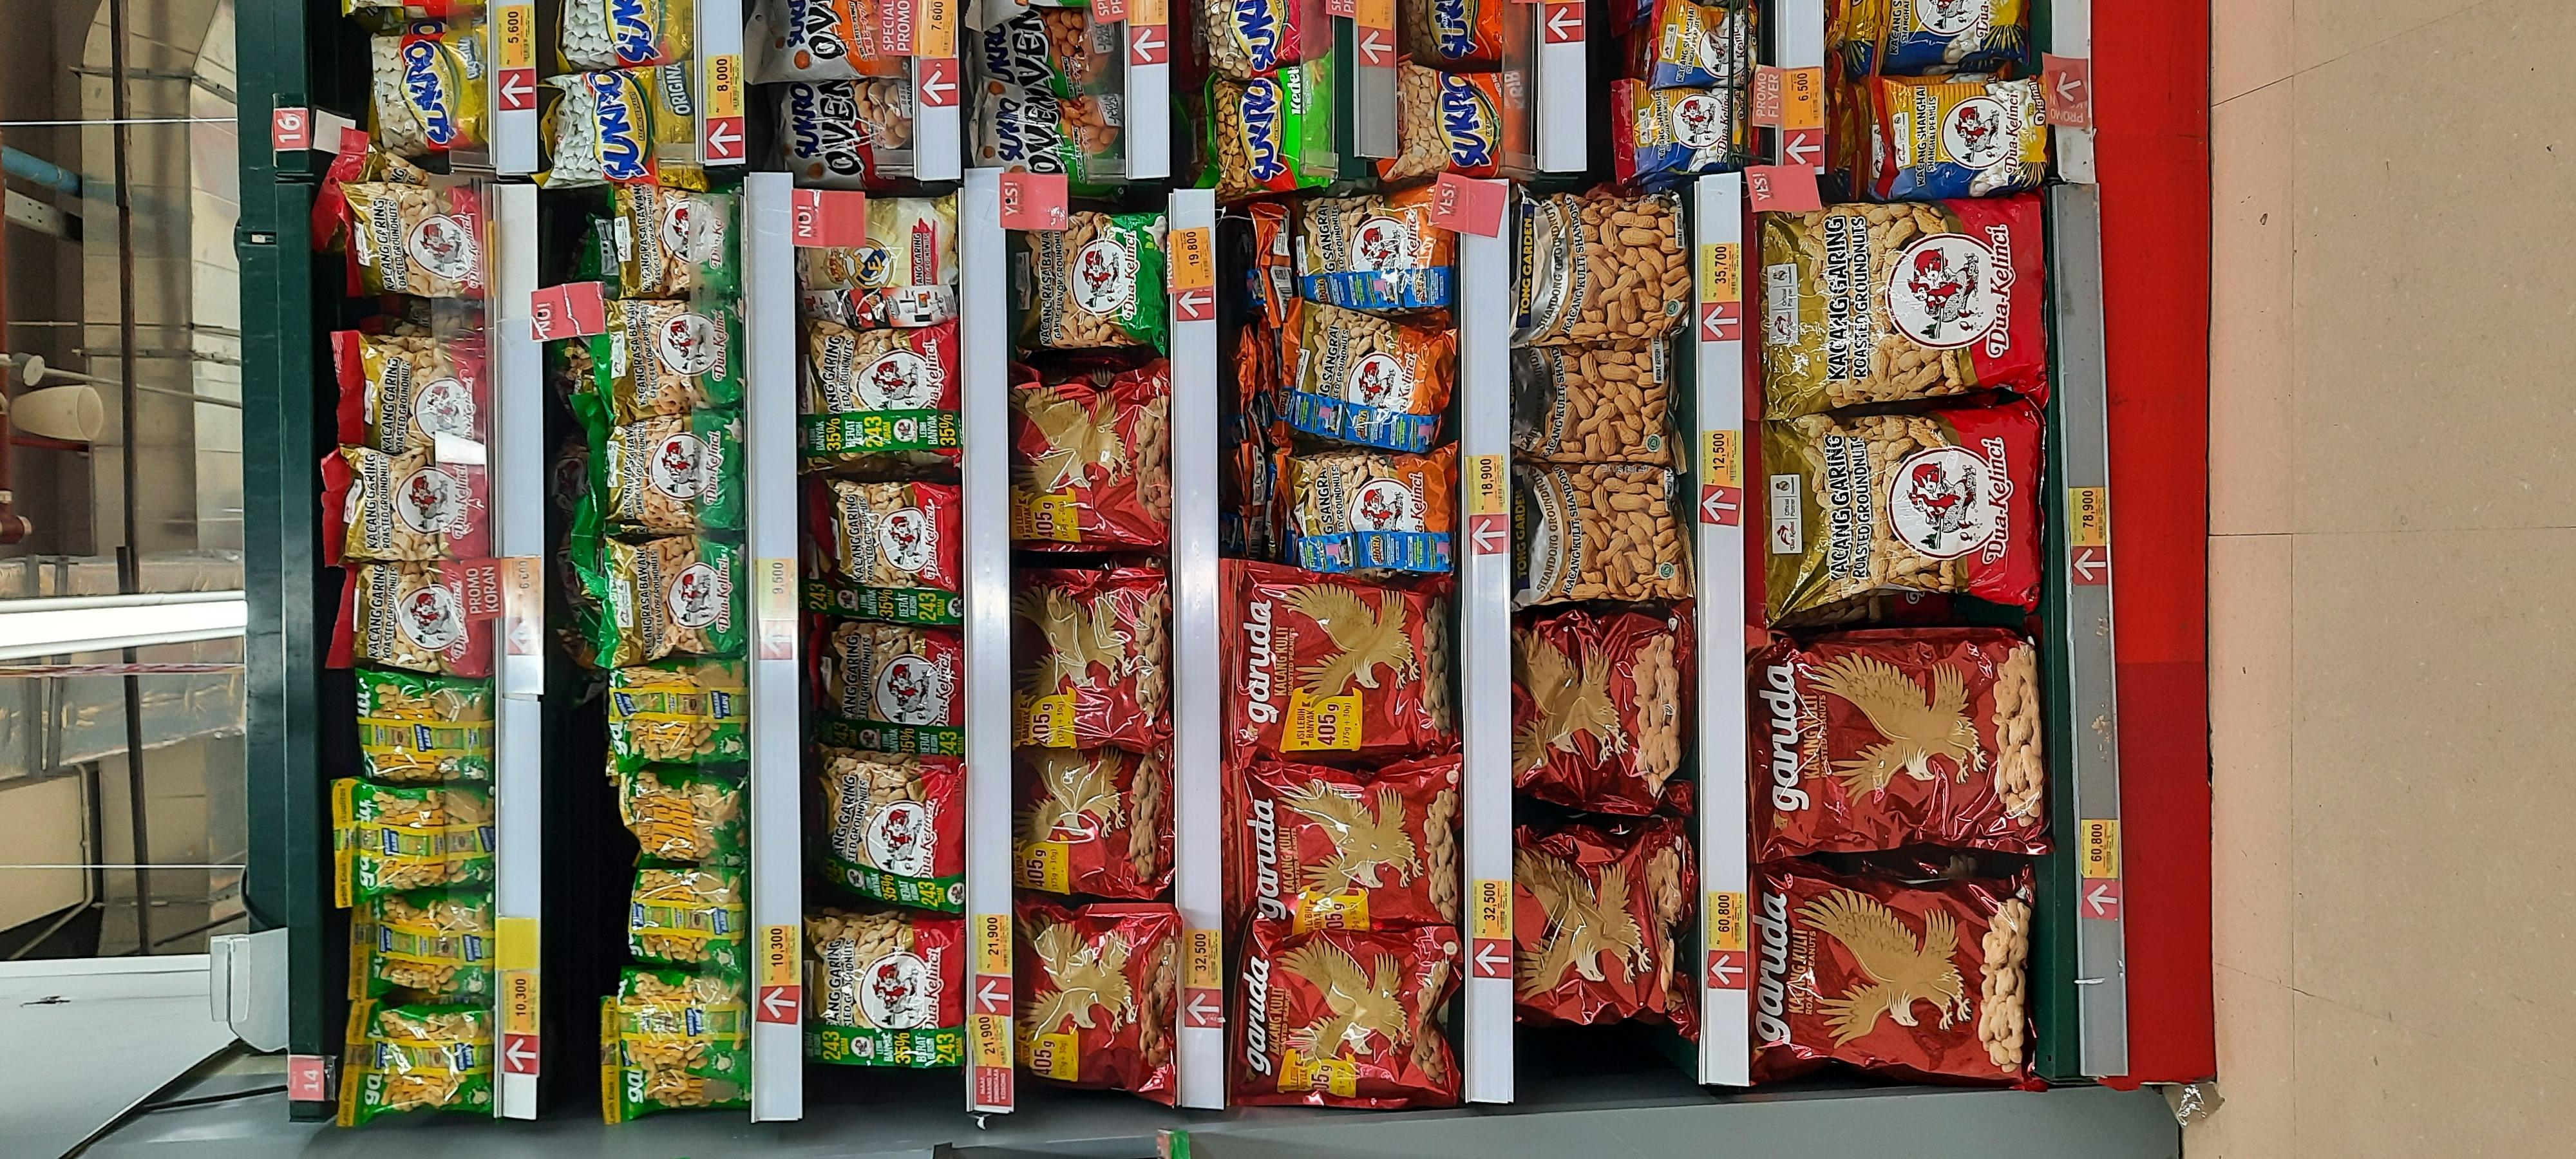90101112101100: (1745, 624, 2055, 854), (1750, 864, 2034, 1083), (1221, 560, 1460, 755), (1226, 921, 1464, 1108), (1217, 757, 1462, 931), (1014, 905, 1176, 1100), (1009, 363, 1170, 550), (337, 1003, 495, 1126), (337, 783, 495, 903), (352, 668, 496, 780), (608, 660, 749, 773), (348, 891, 495, 1000), (619, 967, 752, 1075), (629, 868, 749, 969), (621, 773, 749, 862)
DuaKelinciKacangGaring: (797, 315, 961, 468), (803, 914, 964, 1067), (798, 481, 964, 625), (818, 758, 966, 911), (812, 621, 966, 752)
DuaKelinciKacangGaring60g: (330, 332, 493, 456), (329, 448, 493, 565), (340, 182, 493, 299), (352, 561, 491, 670)
DuaKelinciKacangGaring750g: (1748, 399, 2045, 627), (1759, 192, 2045, 405)
DuaKelinciKacangRasaBawang: (1004, 212, 1168, 348), (605, 537, 746, 667), (600, 302, 746, 422), (605, 412, 743, 530), (613, 182, 741, 299)
DuaKelinciKacangSangrai: (1285, 300, 1457, 453), (1275, 448, 1456, 576), (1288, 186, 1457, 312)
DuaKelinciKacangShangHaiOriginal: (1876, 77, 2052, 195), (1617, 84, 1748, 172)
DuaKelinciKacangSukroOriginal: (537, 64, 700, 189), (368, 26, 488, 159)
DuaKelinciSukroKribo: (1396, 64, 1531, 181)
DuaKelinciSukroOvenRasaBawang: (775, 80, 913, 189)
DuaKelinciSukroOvenRasaJagungBakar: (968, 80, 1124, 195)
DuaKelinciSukroRasaKedelai: (1199, 59, 1332, 192)
TongGardenKacangKulitShandong: (1508, 184, 1692, 345), (1510, 465, 1695, 606), (1511, 340, 1681, 458)
